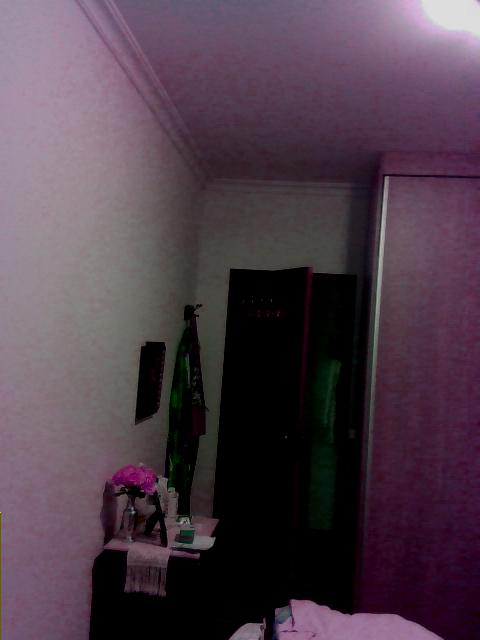semi_door: (208, 264, 359, 632)
